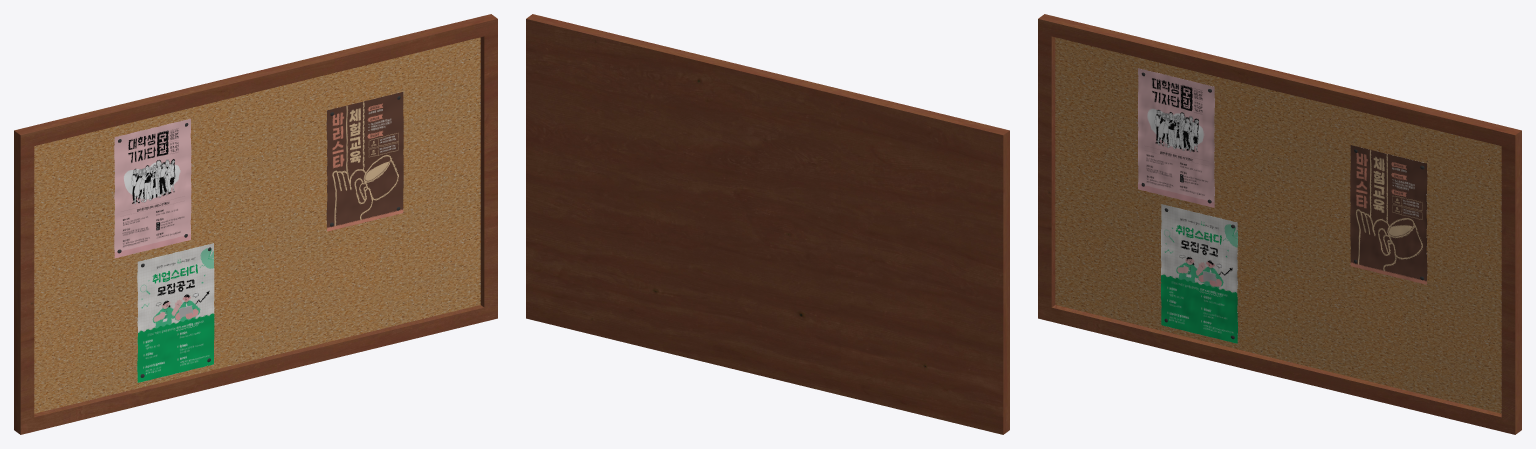
File: noticeboard.fbx
3 renders of one model, left to right at view 1: azimuth 30°, elevation 25°; view 2: azimuth 150°, elevation 25°; view 3: azimuth 330°, elevation 25°, orthographic.
Parts seen in each view (by area): view 1: Plane001, Box001, Mesh002, Mesh01, Mesh003; view 2: Box001; view 3: Plane001, Box001, Mesh003, Mesh002, Mesh01.
Boxes of the visible parts, x1=… form: Plane001: x1=34, y1=37, x2=480, y2=413; Box001: x1=14, y1=14, x2=497, y2=434; Mesh002: x1=114, y1=118, x2=191, y2=258; Mesh01: x1=137, y1=243, x2=214, y2=382; Mesh003: x1=326, y1=92, x2=403, y2=231; Box001: x1=526, y1=14, x2=1009, y2=434; Plane001: x1=1055, y1=37, x2=1501, y2=413; Box001: x1=1038, y1=14, x2=1521, y2=434; Mesh003: x1=1350, y1=145, x2=1427, y2=284; Mesh002: x1=1138, y1=68, x2=1214, y2=207; Mesh01: x1=1161, y1=204, x2=1237, y2=343.
Bounding box in the file's own units: 125 × 3 × 75.
7 materials, 5 textured.
